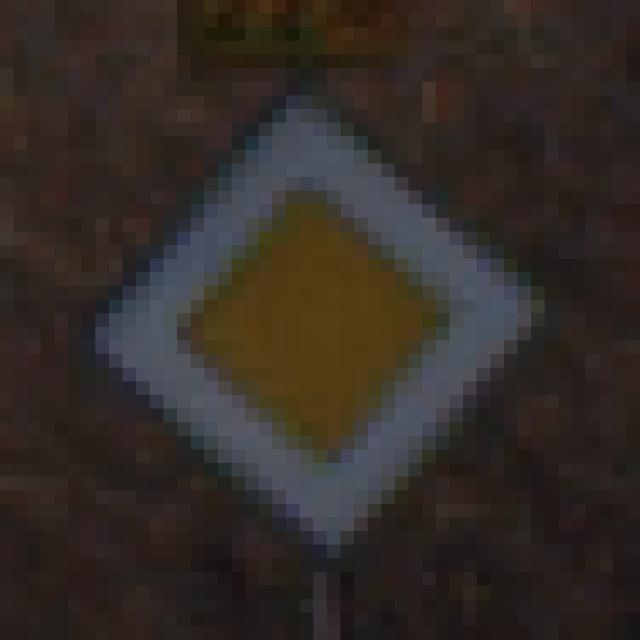Main Road: (69, 69, 573, 573)
